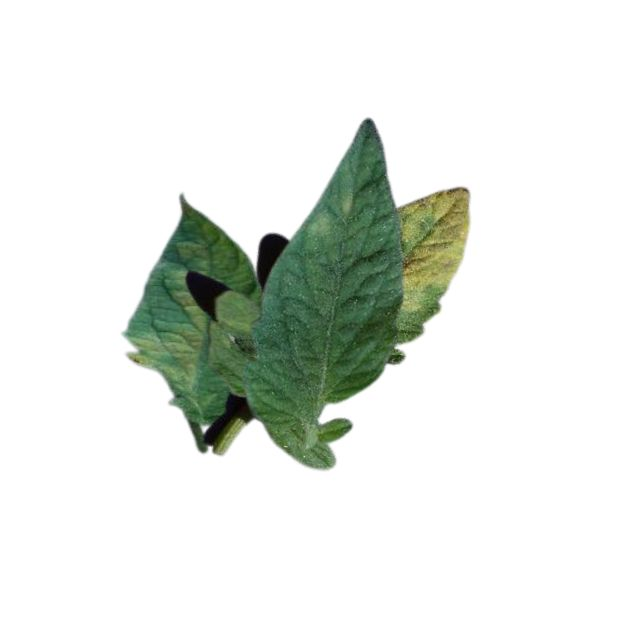Leaf_Mold: (123, 214, 258, 397), (394, 187, 473, 317), (302, 191, 356, 238)
